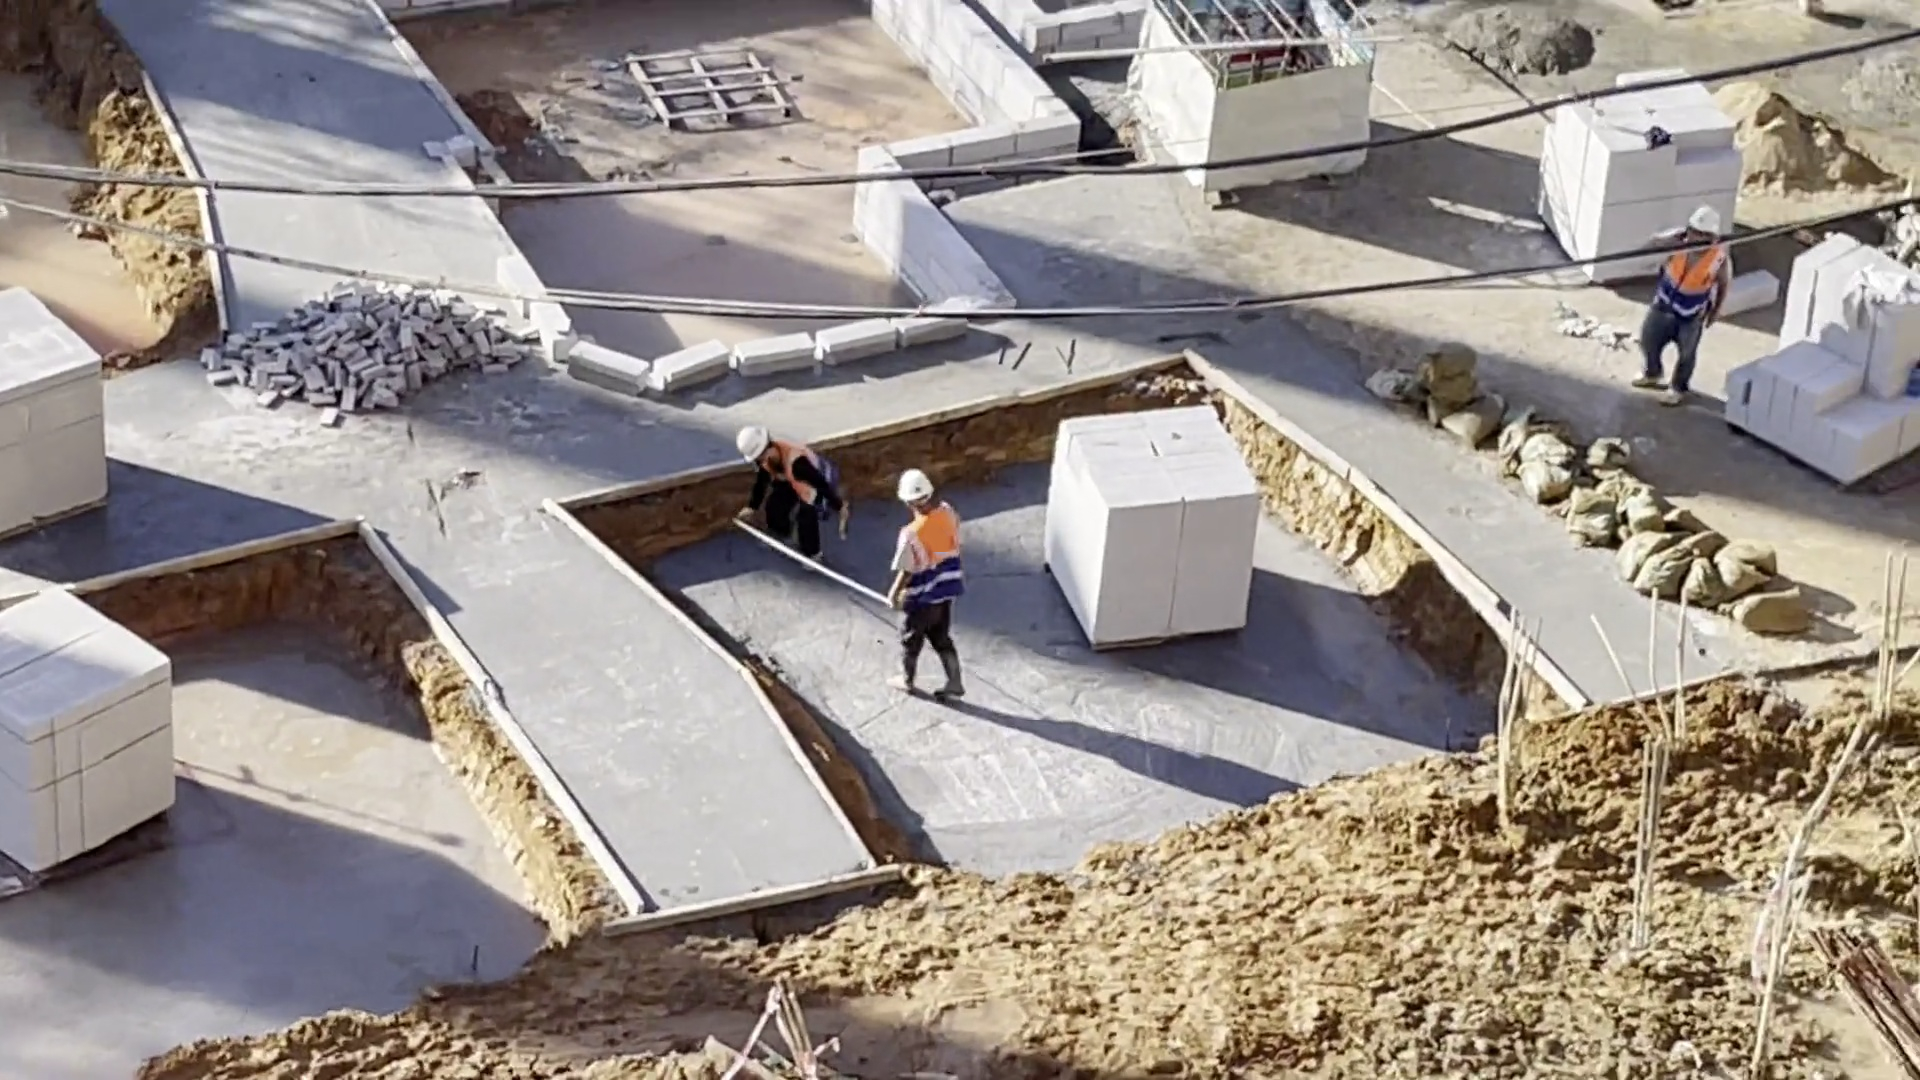brick: (1041, 402, 1261, 653), (1726, 227, 1920, 482), (4, 580, 172, 872), (2, 279, 112, 539), (1542, 111, 1738, 241)
helmet: (728, 424, 774, 462), (894, 469, 934, 505), (1676, 205, 1716, 237)
person: (717, 423, 861, 575), (884, 467, 971, 702), (1631, 200, 1719, 409)
vest: (894, 508, 966, 612), (771, 438, 839, 508), (1659, 251, 1717, 320)
